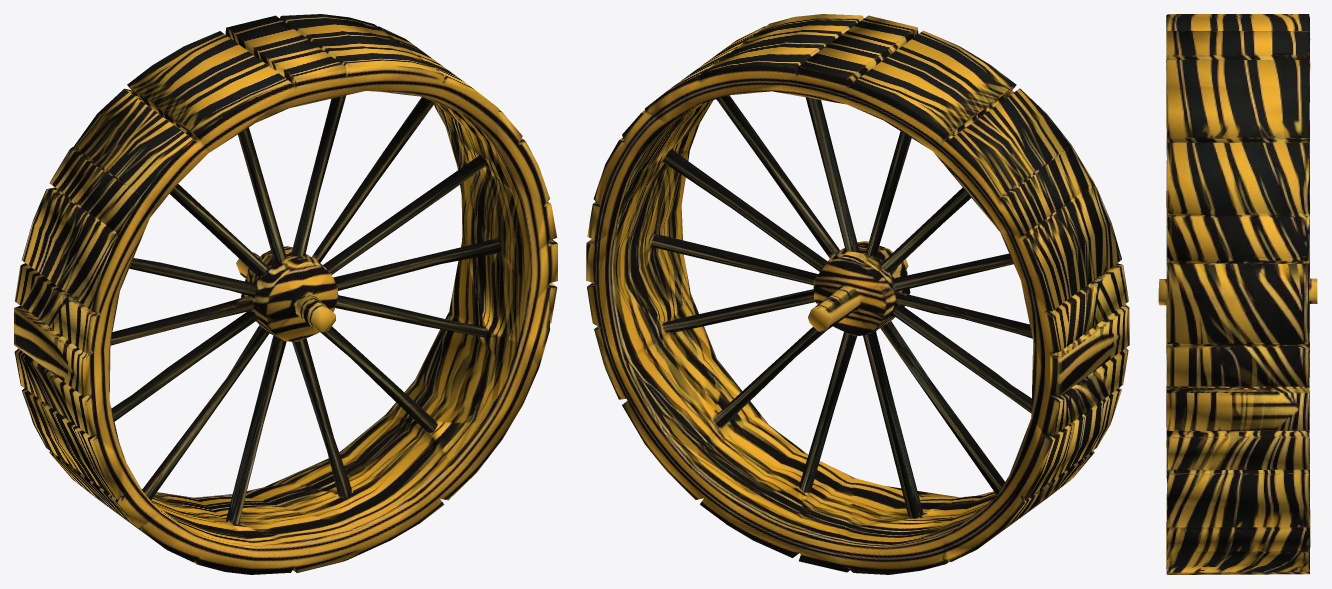
The model's file is RoverWheel.glb.
3 renders of one model, left to right at view 1: azimuth 30°, elevation 25°; view 2: azimuth 150°, elevation 25°; view 3: azimuth 270°, elevation 25°, orthographic.
Parts seen in each view (by area): view 1: Mesh_0; view 2: Mesh_0; view 3: Mesh_0.
Part boxes in pixels (<box>): Mesh_0: <box>14,14,557,574</box>; Mesh_0: <box>586,14,1129,574</box>; Mesh_0: <box>1158,14,1317,574</box>.
Size of the model in its own units: 1.91 by 1.9 by 0.5454.
1 material, 1 textured.
